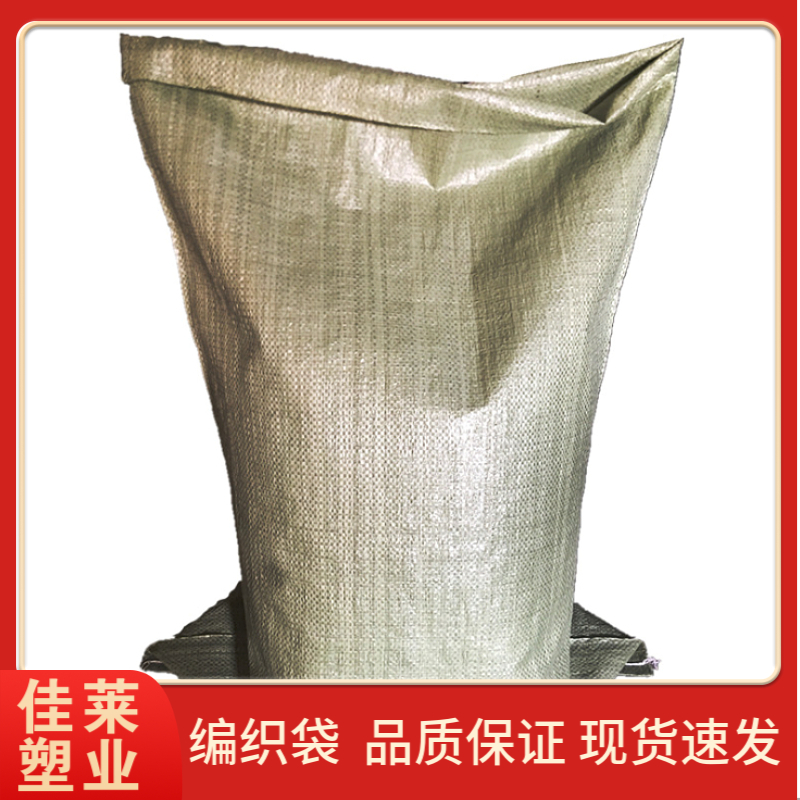塑料袋: (121, 35, 680, 678)
